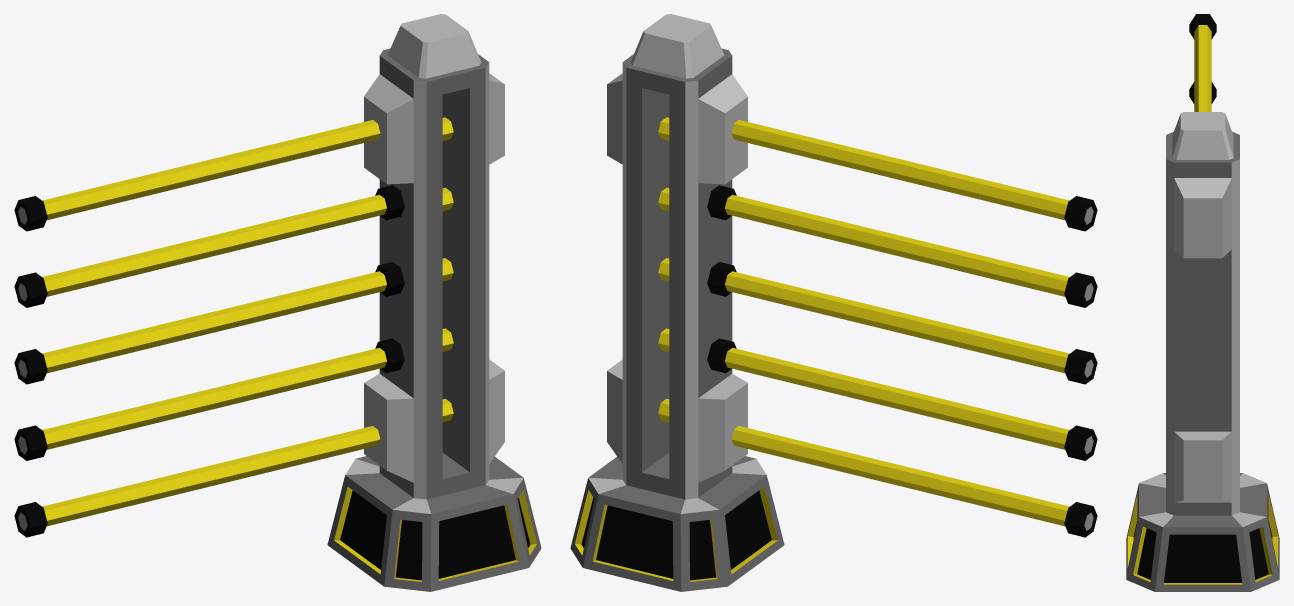
Rendered from Wall1 (1).fbx.
The picture shows the model from 3 angles, left to right: view 1: azimuth 30°, elevation 25°; view 2: azimuth 150°, elevation 25°; view 3: azimuth 270°, elevation 25°; orthographic projection. The views are drawn at different scales.
Visible parts, largest first — view 1: Plane.004; view 2: Plane.004; view 3: Plane.004.
Part boxes in pixels (left/top/right/bottom): Plane.004: left=14, top=14, right=541, bottom=591; Plane.004: left=570, top=14, right=1097, bottom=591; Plane.004: left=1126, top=14, right=1279, bottom=591.
Size of the model in its own units: 161 by 162 by 51.48.
